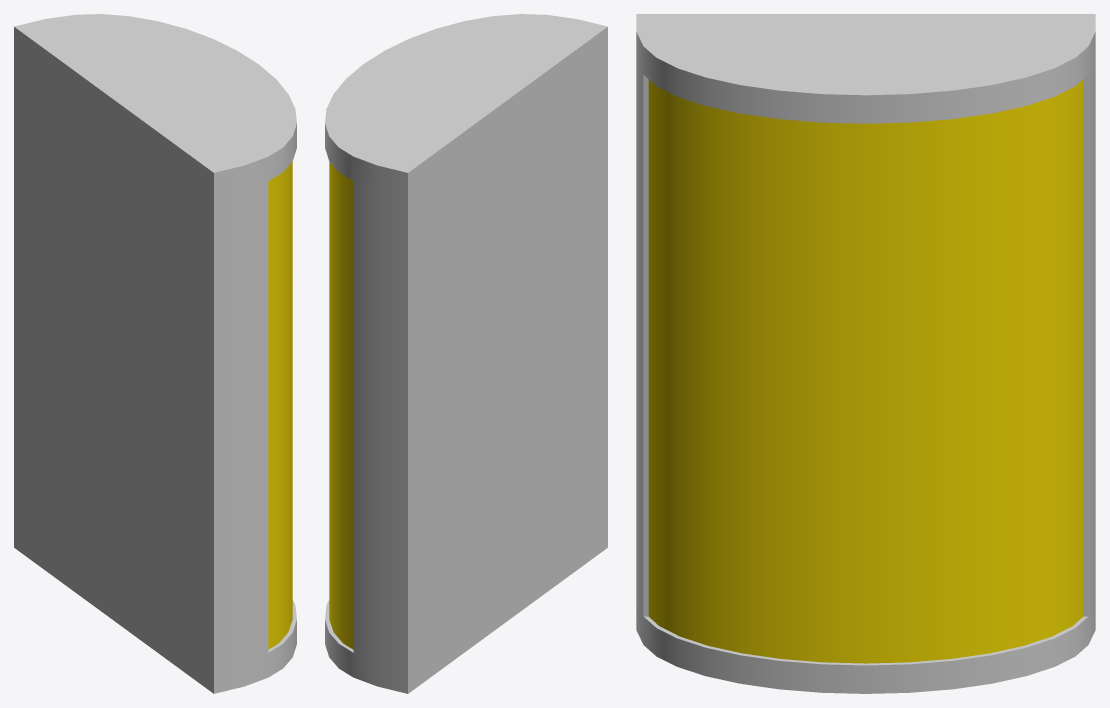
File: SafeZone_Light.fbx
3 renders of one model, left to right at view 1: azimuth 30°, elevation 25°; view 2: azimuth 150°, elevation 25°; view 3: azimuth 270°, elevation 25°, orthographic. The views are drawn at different scales.
Visible parts, largest first — view 1: SafeZone_Light; view 2: SafeZone_Light; view 3: SafeZone_Light.
Part boxes in pixels (x1,y1,x2,y2): SafeZone_Light: (14, 14, 296, 693); SafeZone_Light: (325, 14, 607, 693); SafeZone_Light: (636, 14, 1095, 693).
Size of the model in its own units: 0.1224 by 0.4203 by 0.2924.
